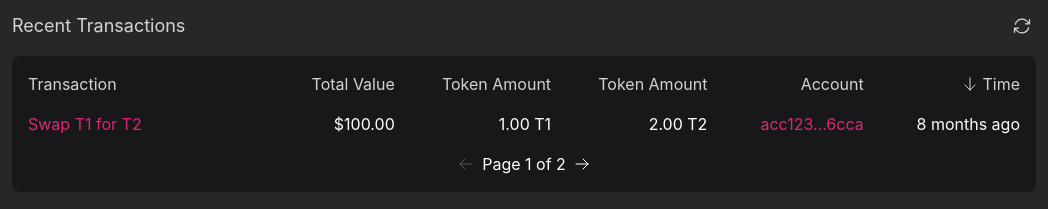
Scenario: TransactionTable › Transaction table sort works
This screenshot has width=1048, height=209.
Check: the text "Swap T1 for T2" is shown, box left=28, top=114, right=142, bottom=134
Click the text "Time" at (991, 84), box left=962, top=74, right=1020, bottom=94
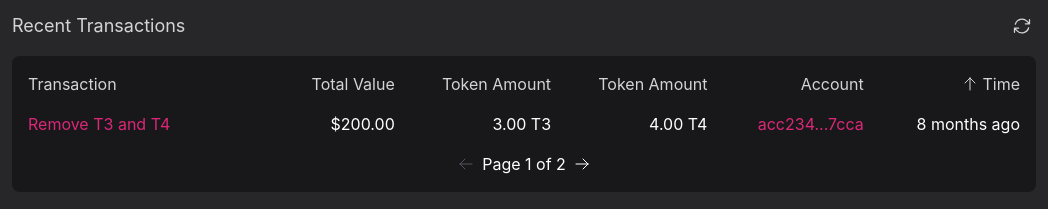
Check: the text "Remove T3 and T4" is shown, box left=28, top=114, right=170, bottom=134
Click the text "Time" at (991, 84), box left=962, top=74, right=1020, bottom=94
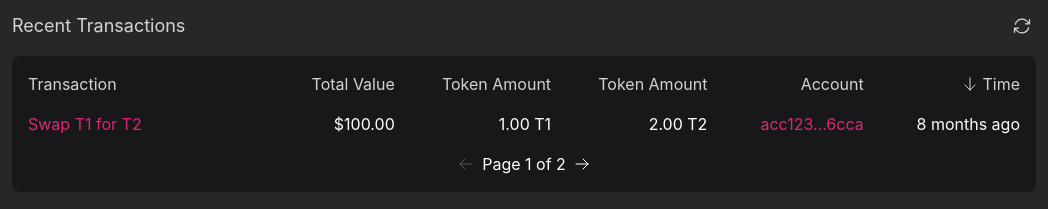
Check: the text "Swap T1 for T2" is shown, box left=28, top=114, right=142, bottom=134
